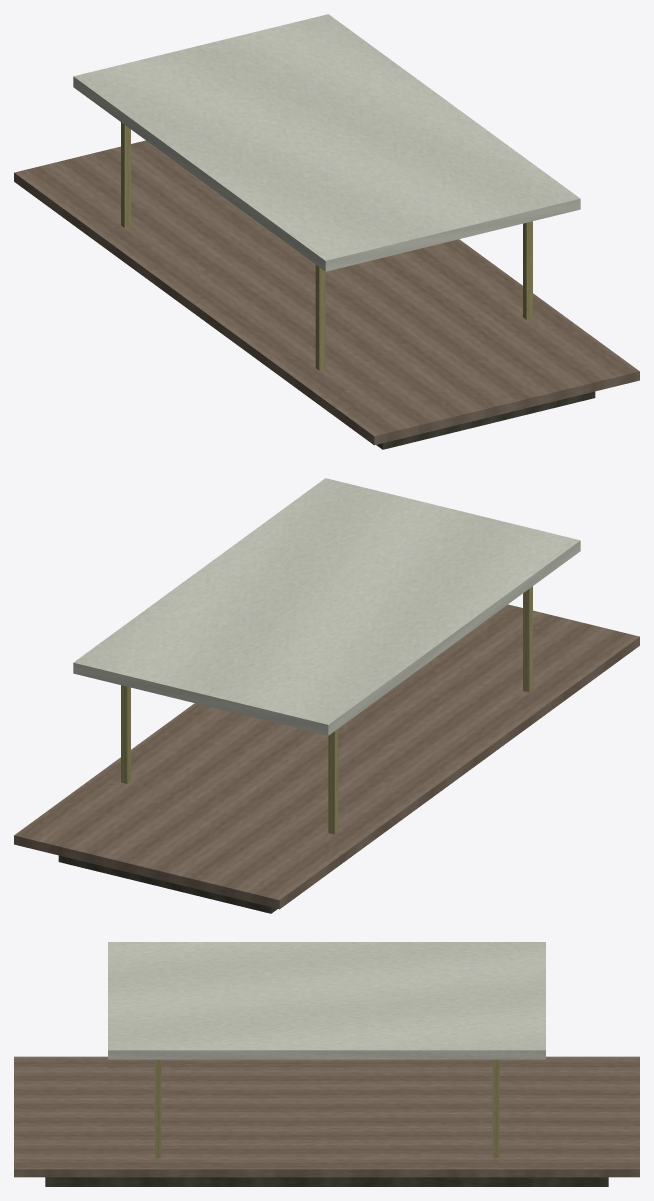
Rendered from bung-raft-3-white-lod.glb.
3 renders of one model, top to bottom at view 1: azimuth 30°, elevation 25°; view 2: azimuth 150°, elevation 25°; view 3: azimuth 270°, elevation 25°, orthographic. The views are drawn at different scales.
Parts seen in each view (by area): view 1: bung-raft-3-white-lod; view 2: bung-raft-3-white-lod; view 3: bung-raft-3-white-lod.
Part boxes in pixels (bbox=[...]): bung-raft-3-white-lod: bbox=[14, 14, 639, 449]; bung-raft-3-white-lod: bbox=[14, 478, 639, 913]; bung-raft-3-white-lod: bbox=[14, 942, 639, 1186].
Bounding box in the file's own units: 4.6 × 2.78 × 10.8.
Materials: 1 (1 with a texture image).
